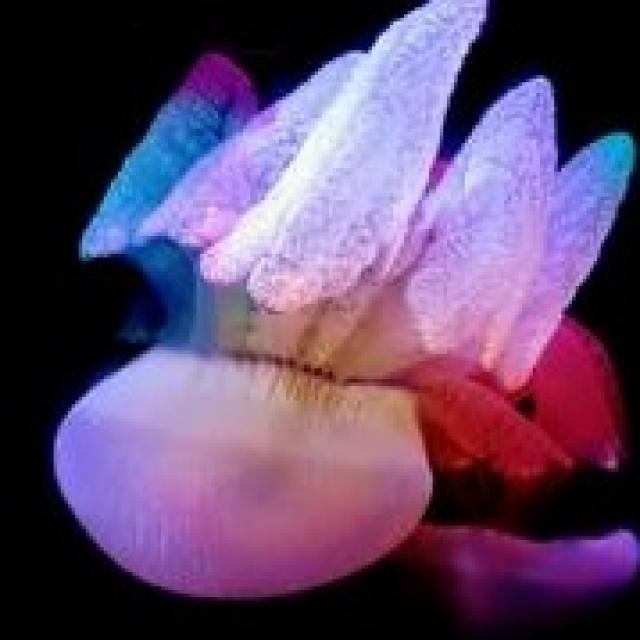Moon-jellyfish: (46, 0, 636, 619)
